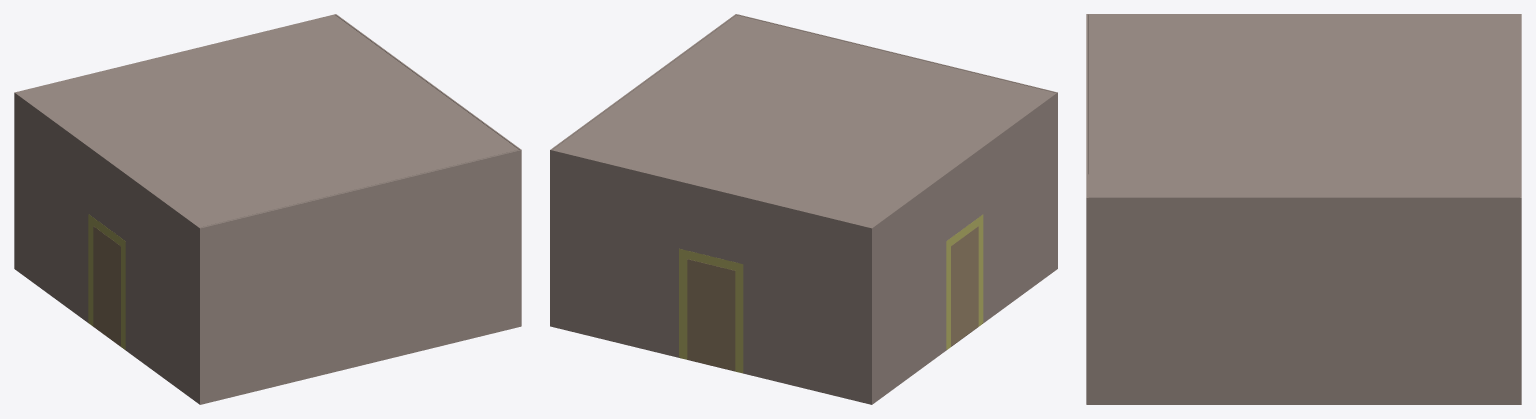
File: Room32_MasterBedroom.fbx
3 renders of one model, left to right at view 1: azimuth 30°, elevation 25°; view 2: azimuth 150°, elevation 25°; view 3: azimuth 270°, elevation 25°, orthographic. The views are drawn at different scales.
Visible parts, largest first — view 1: Roof, WallPosZ, WallSlicedPosX, DoorPosX, DoorFramePosX, WallNegX, WallSlicedNegZ; view 2: Roof, WallSlicedNegZ, WallSlicedPosX, DoorNegZ, DoorPosX, DoorFrameNegZ, DoorFramePosX, WallNegX, WallPosZ; view 3: WallNegX, Roof, WallPosZ, WallSlicedPosX.
Part boxes in pixels (left/top/right/bottom): Roof: left=17, top=15, right=518, bottom=227; WallPosZ: left=199, top=149, right=521, bottom=404; WallSlicedPosX: left=14, top=92, right=200, bottom=403; DoorPosX: left=93, top=226, right=120, bottom=346; DoorFramePosX: left=88, top=214, right=125, bottom=349; WallNegX: left=335, top=14, right=521, bottom=325; WallSlicedNegZ: left=14, top=14, right=335, bottom=269; Roof: left=553, top=15, right=1054, bottom=227; WallSlicedNegZ: left=550, top=149, right=873, bottom=404; WallSlicedPosX: left=869, top=92, right=1057, bottom=404; DoorNegZ: left=687, top=259, right=735, bottom=370; DoorPosX: left=951, top=226, right=978, bottom=346; DoorFrameNegZ: left=679, top=248, right=743, bottom=372; DoorFramePosX: left=946, top=214, right=983, bottom=349; WallNegX: left=550, top=14, right=736, bottom=326; WallPosZ: left=736, top=14, right=1057, bottom=268; WallNegX: left=1086, top=197, right=1521, bottom=404; Roof: left=1088, top=14, right=1519, bottom=197; WallPosZ: left=1086, top=14, right=1088, bottom=404; WallSlicedPosX: left=1088, top=14, right=1521, bottom=174.
Bounding box in the file's own units: 100 × 52.5 × 100.
